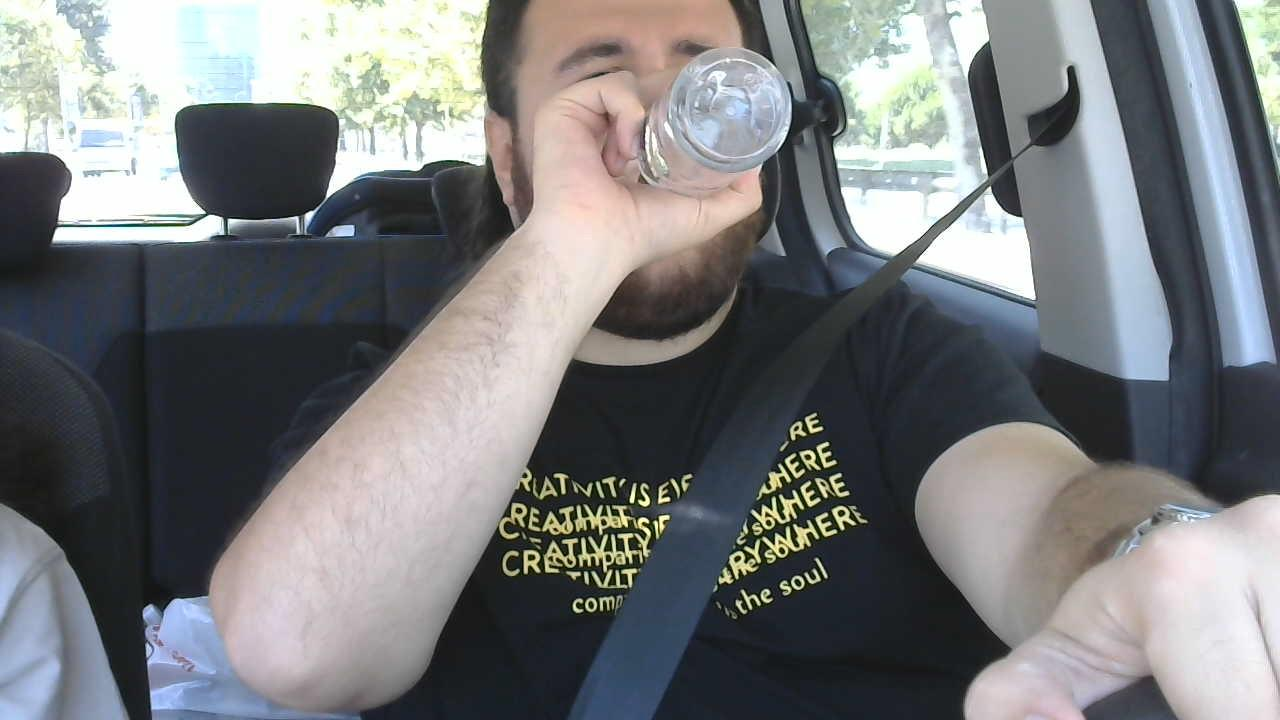Drinking: (601, 46, 793, 230)
